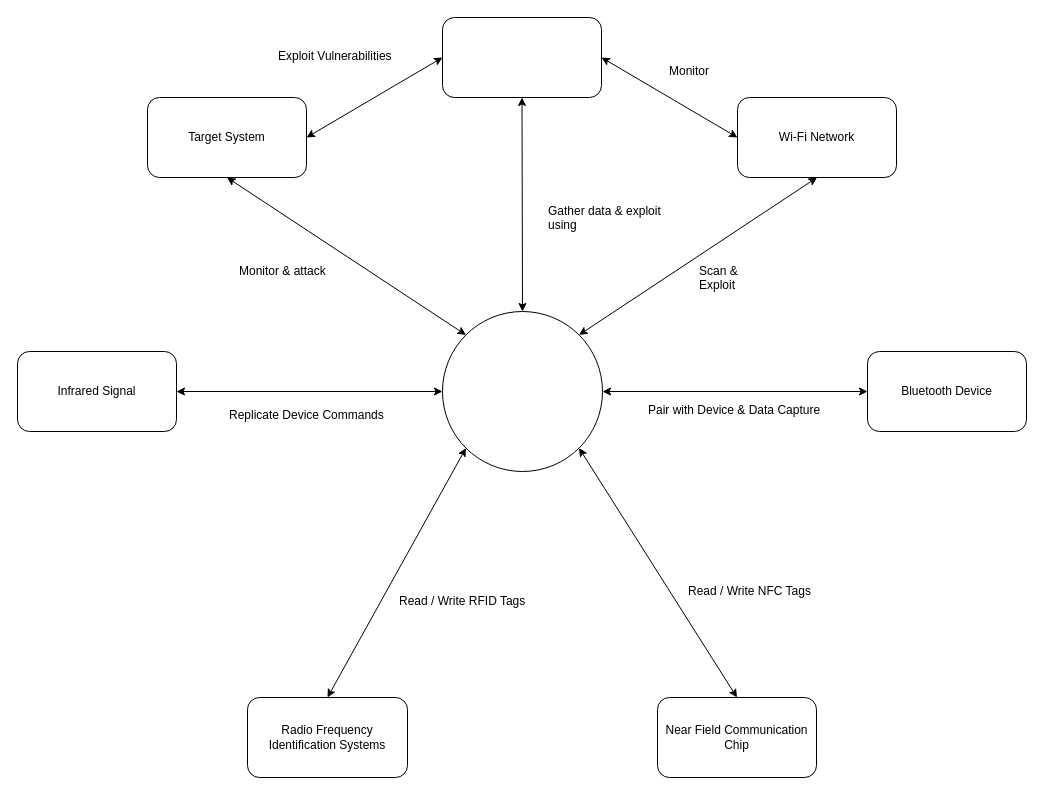
Some shapes in this 1044 by 795 pixel diagram are drawn without their labels. Each missing label, with the box of its shape:
Pen-tester / Red-teamer: (442, 16, 602, 98)
Pen-testing Multi-tool: (442, 310, 602, 472)
